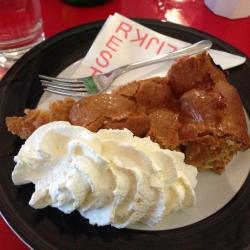apple_pie: (8, 51, 246, 181)
chantilly: (15, 124, 203, 235)
